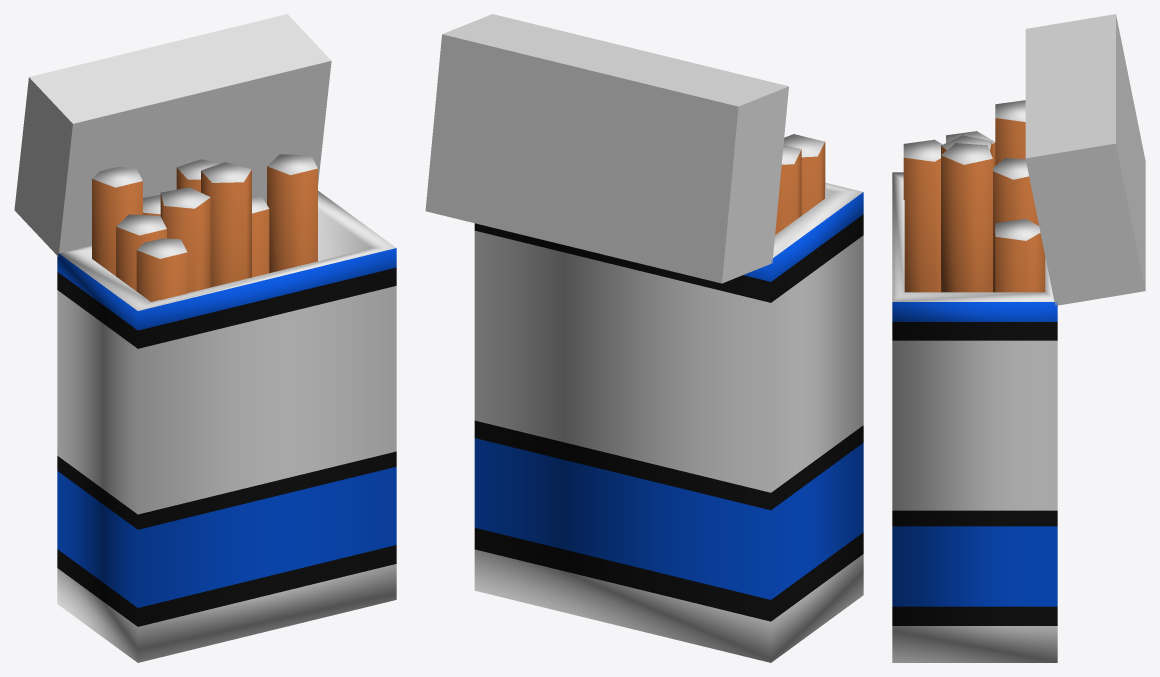
The model's file is cigarettes.glb.
3 renders of one model, left to right at view 1: azimuth 30°, elevation 25°; view 2: azimuth 150°, elevation 25°; view 3: azimuth 270°, elevation 25°, orthographic. The views are drawn at different scales.
Visible parts, largest first — view 1: Cigarettes; view 2: Cigarettes; view 3: Cigarettes.
Boxes of the visible parts, box(x1,y1,x2,y2) form: Cigarettes: box(14, 14, 396, 662); Cigarettes: box(425, 14, 863, 662); Cigarettes: box(892, 14, 1145, 662).
Bounding box in the file's own units: 2 × 3.74 × 1.65.
